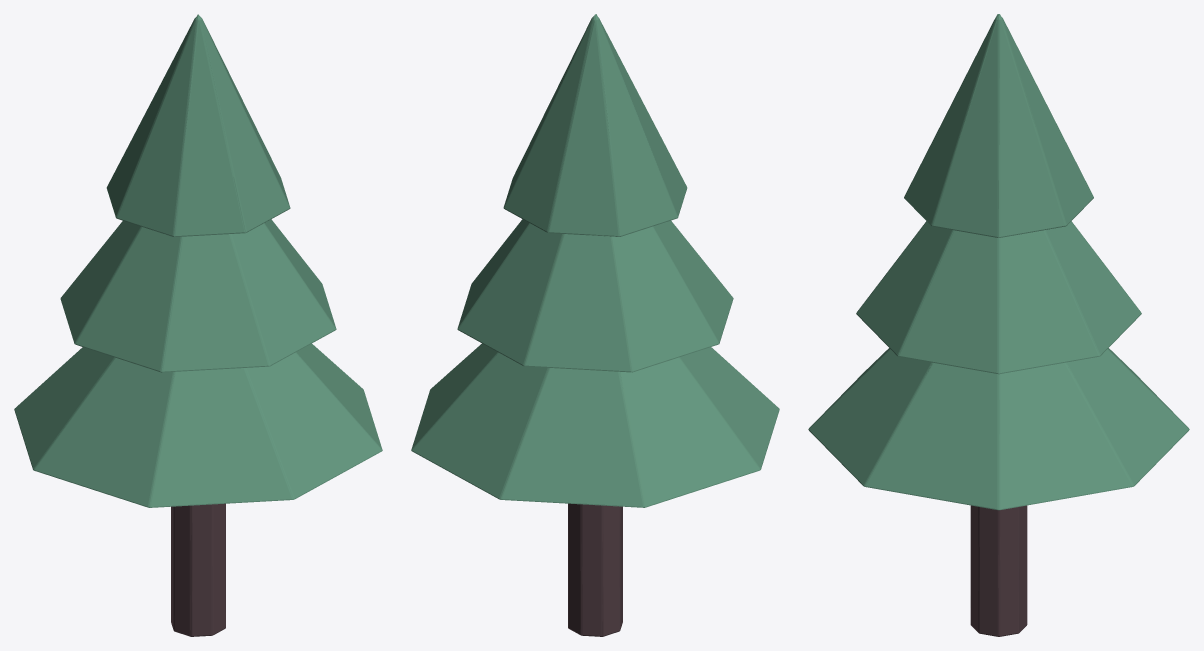
File: SM_Neroberg_Pine.fbx
3 renders of one model, left to right at view 1: azimuth 30°, elevation 25°; view 2: azimuth 150°, elevation 25°; view 3: azimuth 270°, elevation 25°, orthographic.
Parts seen in each view (by area): view 1: LOD0_SM_Neroberg_Pine, LOD1_SM_Neroberg_Pine; view 2: LOD0_SM_Neroberg_Pine, LOD1_SM_Neroberg_Pine; view 3: LOD0_SM_Neroberg_Pine, LOD1_SM_Neroberg_Pine.
Part boxes in pixels (<box>): LOD0_SM_Neroberg_Pine: <box>14,15,382,636</box>; LOD1_SM_Neroberg_Pine: <box>33,16,379,635</box>; LOD0_SM_Neroberg_Pine: <box>411,15,779,636</box>; LOD1_SM_Neroberg_Pine: <box>459,15,779,636</box>; LOD0_SM_Neroberg_Pine: <box>808,15,1189,636</box>; LOD1_SM_Neroberg_Pine: <box>817,15,1189,636</box>.
Size of the model in its own units: 2.39 by 4.22 by 2.39.
